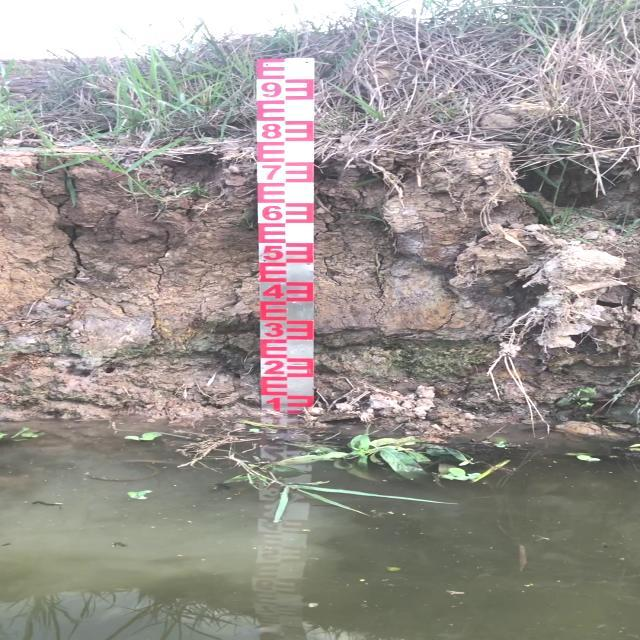ruler: (228, 44, 351, 436)
value: (256, 78, 287, 104), (256, 119, 288, 144), (260, 392, 287, 420), (259, 240, 288, 265), (256, 162, 288, 184), (259, 201, 288, 225), (260, 318, 288, 341), (259, 280, 288, 302), (261, 355, 289, 377)
